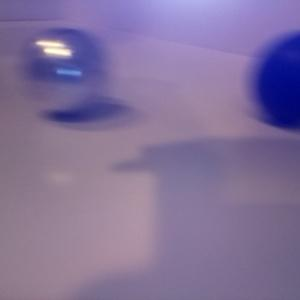alive_ball: (15, 27, 108, 115)
dead_ball: (251, 29, 300, 132)
